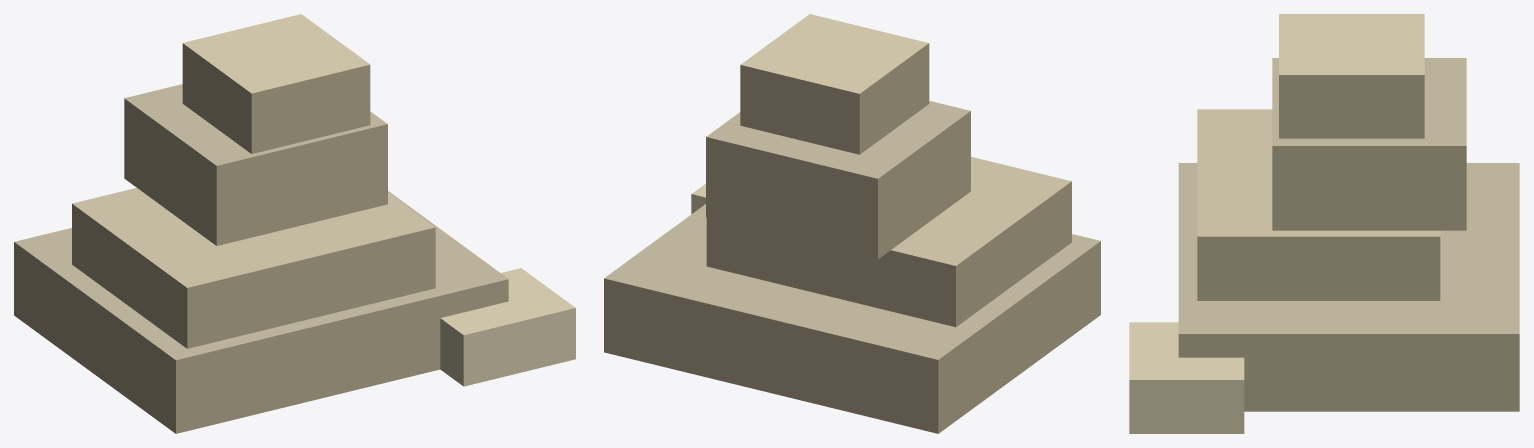
The model's file is limestone_c.glb.
3 views of the same model, side by side, from view 1: azimuth 30°, elevation 25°; view 2: azimuth 150°, elevation 25°; view 3: azimuth 270°, elevation 25° (orthographic). The views are drawn at different scales.
Visible parts, largest first — view 1: limestone_c; view 2: limestone_c; view 3: limestone_c.
Boxes of the visible parts, x1,y1,x2,y2 form: limestone_c: (14,14,575,433); limestone_c: (604,14,1100,433); limestone_c: (1129,14,1519,433).
Size of the model in its own units: 1.07 by 0.7511 by 0.916.
